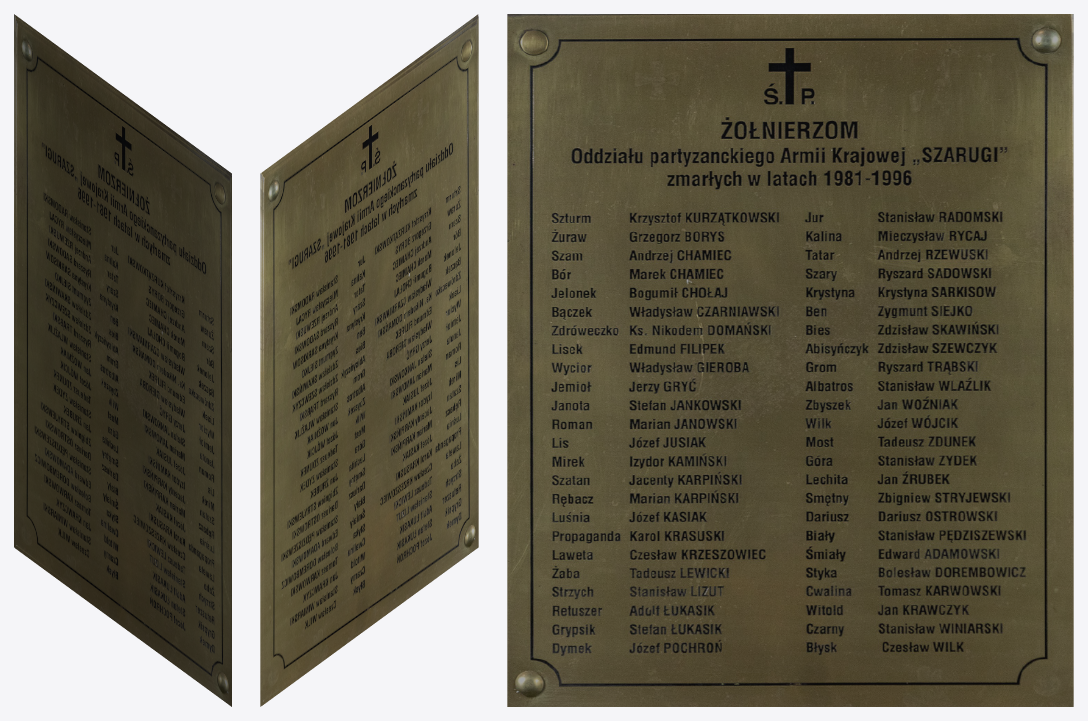
Rendered from 46. ŚP.ŻOŁNIERZOM.glb.
3 renders of one model, left to right at view 1: azimuth 30°, elevation 25°; view 2: azimuth 150°, elevation 25°; view 3: azimuth 270°, elevation 25°, orthographic. The views are drawn at different scales.
Visible parts, largest first — view 1: Plane; view 2: Plane; view 3: Plane.
Part boxes in pixels (<box>): Plane: <box>14,14,231,706</box>; Plane: <box>260,14,478,706</box>; Plane: <box>507,14,1073,706</box>.
Size of the model in its own units: 0.0102 by 27 by 20.
1 material, 1 textured.
